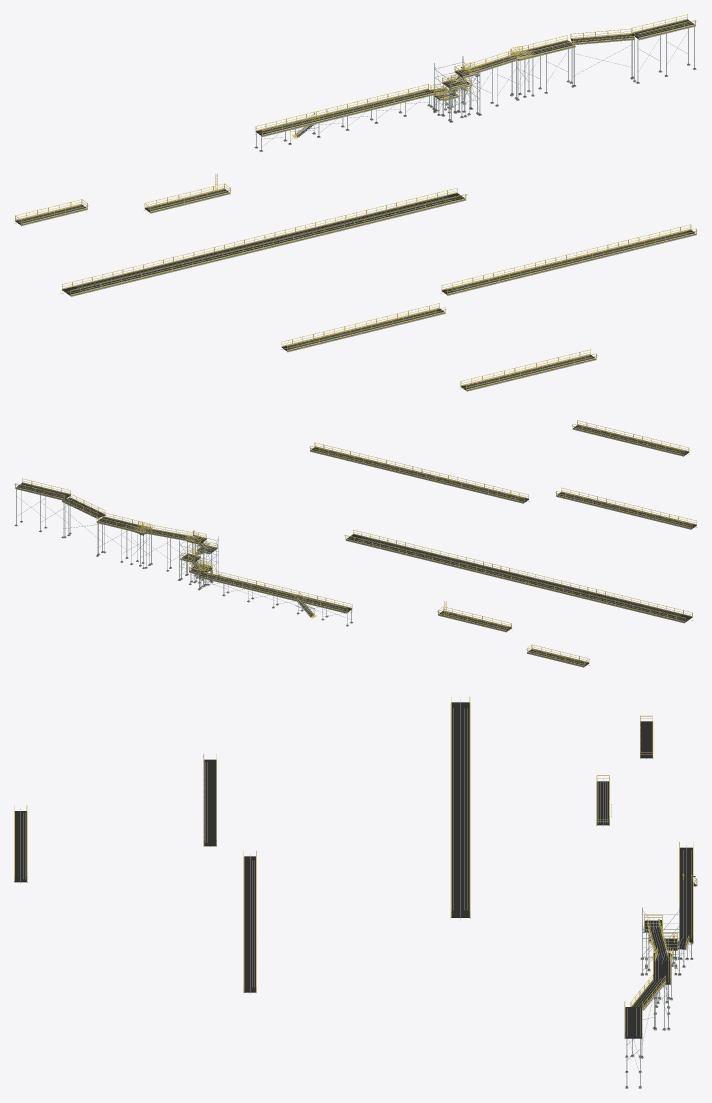
Rendered from Ore_Tangga_Industrial_Access_UV.fbx.
The picture shows the model from 3 angles, top to bottom: view 1: azimuth 30°, elevation 25°; view 2: azimuth 150°, elevation 25°; view 3: azimuth 270°, elevation 25°; orthographic projection. The views are drawn at different scales.
Parts seen in each view (by area): view 1: Ore_Tangga_04_Ground_Service_Corridor_Heavy_Grated_Deck, Ore_Tangga_09_West_Service_Corridor_Heavy_Grated_Deck, Ore_Tangga_02_Lower_Service_Bridge_Heavy_Grated_Deck, Ore_Tangga_07_Return_Service_Corridor_Heavy_Grated_Deck, Ore_Tangga_08_North_Service_Corridor_Heavy_Grated_Deck, Ore_Tangga_04_Ground_Service_Corridor_NorthEdge_Outer_Channe; view 2: Ore_Tangga_04_Ground_Service_Corridor_Heavy_Grated_Deck, Ore_Tangga_09_West_Service_Corridor_Heavy_Grated_Deck, Ore_Tangga_02_Lower_Service_Bridge_Heavy_Grated_Deck, Ore_Tangga_07_Return_Service_Corridor_Heavy_Grated_Deck, Ore_Tangga_08_North_Service_Corridor_Heavy_Grated_Deck, Ore_Tangga_04_Ground_Service_Corridor_SouthEdge_Outer_Channe, Ore_Tangga_04_Ground_Service_Corridor_North_ToeBoard, Ore_Tangga_04_Ground_Service_Corridor_South_ToeBoard; view 3: Ore_Tangga_04_Ground_Service_Corridor_Heavy_Grated_Deck, Ore_Tangga_09_West_Service_Corridor_Heavy_Grated_Deck, Ore_Tangga_02_Lower_Service_Bridge_Heavy_Grated_Deck, Ore_Tangga_07_Return_Service_Corridor_Heavy_Grated_Deck, Ore_Tangga_08_North_Service_Corridor_Heavy_Grated_Deck.
Boxes of the visible parts, x1=… form: Ore_Tangga_04_Ground_Service_Corridor_Heavy_Grated_Deck: x1=62, y1=193, x2=465, y2=295; Ore_Tangga_09_West_Service_Corridor_Heavy_Grated_Deck: x1=442, y1=230, x2=696, y2=294; Ore_Tangga_02_Lower_Service_Bridge_Heavy_Grated_Deck: x1=256, y1=89, x2=433, y2=135; Ore_Tangga_07_Return_Service_Corridor_Heavy_Grated_Deck: x1=282, y1=308, x2=444, y2=351; Ore_Tangga_08_North_Service_Corridor_Heavy_Grated_Deck: x1=461, y1=355, x2=595, y2=390; Ore_Tangga_04_Ground_Service_Corridor_NorthEdge_Outer_Channe: x1=70, y1=199, x2=466, y2=296; Ore_Tangga_04_Ground_Service_Corridor_Heavy_Grated_Deck: x1=346, y1=534, x2=692, y2=622; Ore_Tangga_09_West_Service_Corridor_Heavy_Grated_Deck: x1=310, y1=447, x2=528, y2=502; Ore_Tangga_02_Lower_Service_Bridge_Heavy_Grated_Deck: x1=199, y1=572, x2=351, y2=612; Ore_Tangga_07_Return_Service_Corridor_Heavy_Grated_Deck: x1=556, y1=492, x2=696, y2=528; Ore_Tangga_08_North_Service_Corridor_Heavy_Grated_Deck: x1=573, y1=425, x2=688, y2=455; Ore_Tangga_04_Ground_Service_Corridor_SouthEdge_Outer_Channe: x1=345, y1=540, x2=684, y2=623; Ore_Tangga_04_Ground_Service_Corridor_North_ToeBoard: x1=353, y1=533, x2=691, y2=616; Ore_Tangga_04_Ground_Service_Corridor_South_ToeBoard: x1=346, y1=538, x2=684, y2=621; Ore_Tangga_04_Ground_Service_Corridor_Heavy_Grated_Deck: x1=451, y1=702, x2=469, y2=917; Ore_Tangga_09_West_Service_Corridor_Heavy_Grated_Deck: x1=244, y1=856, x2=255, y2=992; Ore_Tangga_02_Lower_Service_Bridge_Heavy_Grated_Deck: x1=680, y1=847, x2=692, y2=942; Ore_Tangga_07_Return_Service_Corridor_Heavy_Grated_Deck: x1=204, y1=759, x2=216, y2=846; Ore_Tangga_08_North_Service_Corridor_Heavy_Grated_Deck: x1=14, y1=811, x2=26, y2=882.
Bounding box in the file's own units: 16640 × 1114 × 12378.
